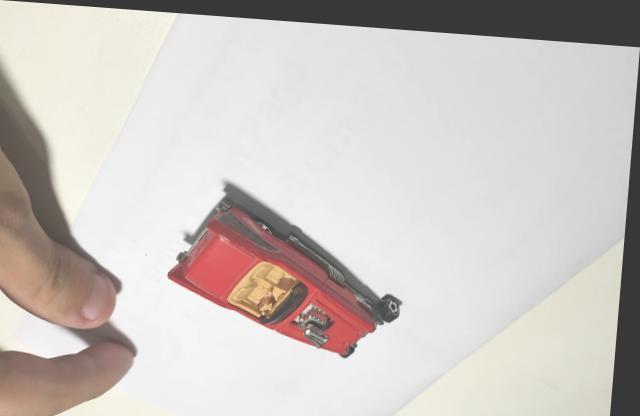03_V8: (172, 177, 407, 351)
